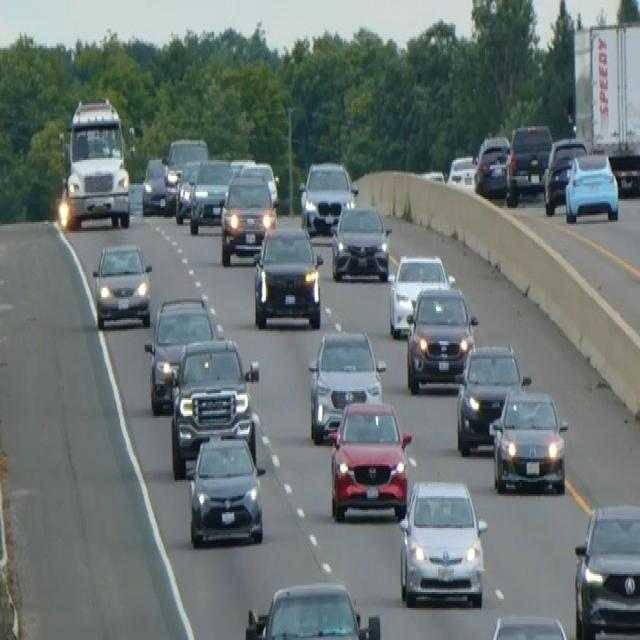car: (169, 336, 259, 478), (398, 478, 488, 608), (328, 398, 413, 521), (144, 294, 224, 414), (187, 432, 266, 548), (307, 327, 386, 443), (573, 502, 639, 638), (488, 384, 568, 494), (455, 341, 528, 455), (404, 283, 478, 393), (244, 580, 381, 638), (252, 224, 323, 329), (387, 252, 453, 338), (91, 240, 152, 329), (219, 172, 276, 265), (330, 201, 391, 281), (298, 158, 358, 235), (564, 151, 619, 222), (505, 121, 552, 204), (188, 156, 233, 233), (543, 137, 588, 213), (163, 135, 208, 210), (474, 134, 511, 198), (486, 614, 574, 638), (174, 156, 205, 224), (240, 160, 279, 210), (141, 155, 171, 215), (608, 150, 639, 198), (447, 153, 477, 187), (229, 156, 255, 178)
lorry: (57, 94, 132, 231)
